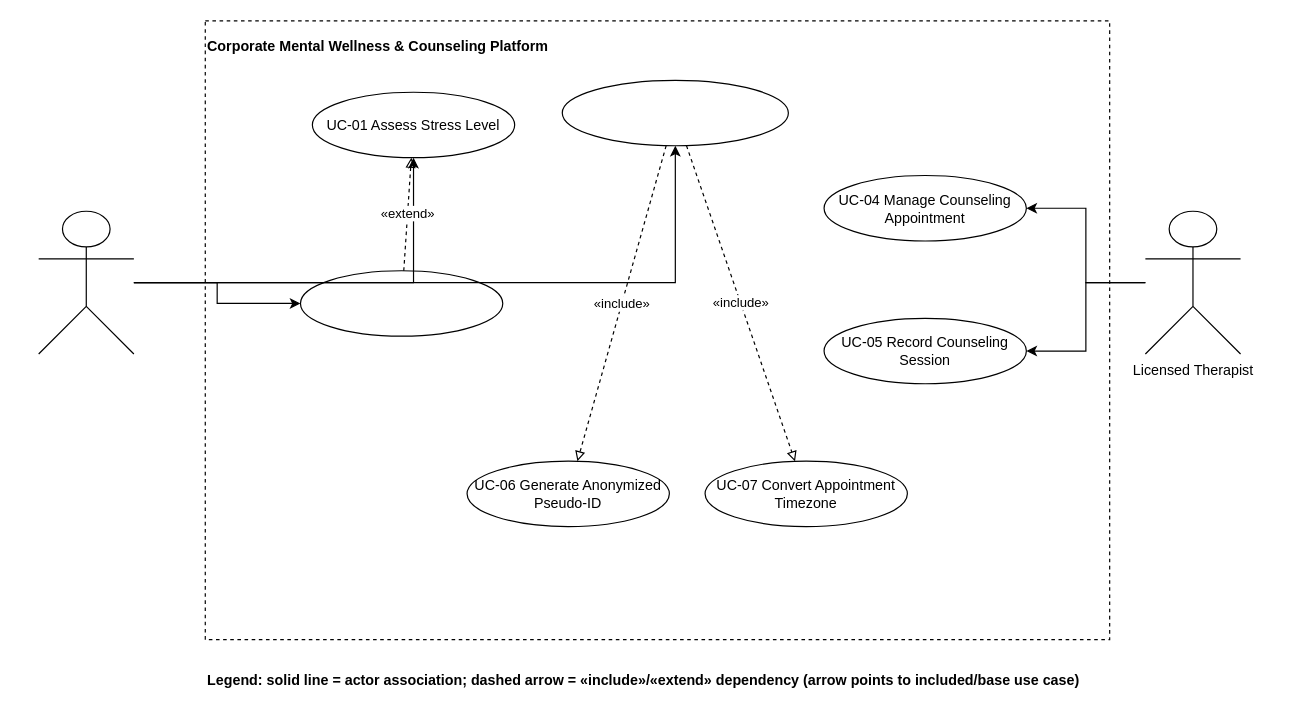
Image size: 1297x720. Some labels were removed from this diagram. The shapes that lost their labels are listed below. From the top down, each one's centre as x and y in pixels, then its label:
At point (674, 112): "UC-02 Book Confidential Counseling Session".
At point (85, 282): "Corporate Employee".
At point (401, 303): "UC-03 View Personal Wellness Indicators".
